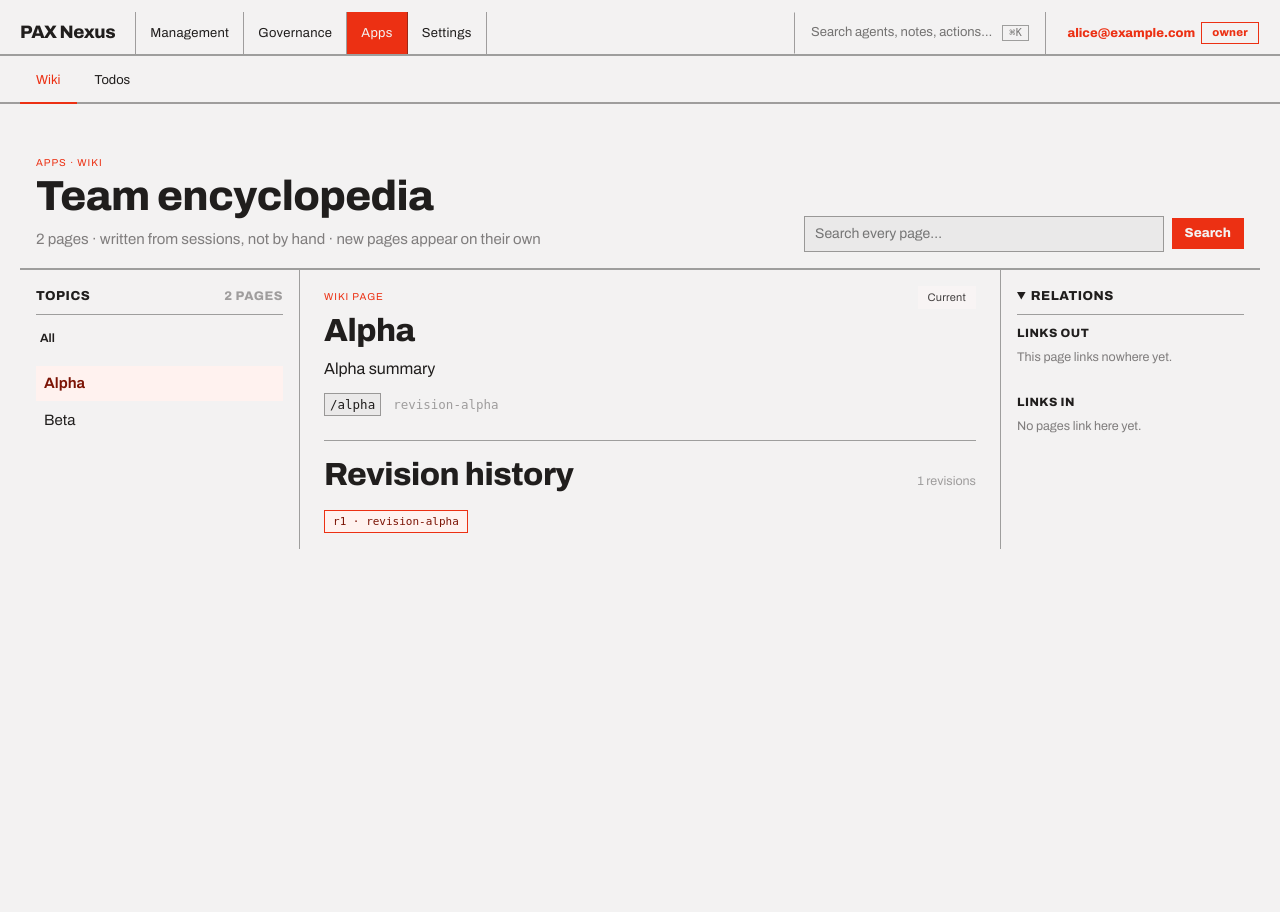
Test: wiki browse route navigation fetch cadence › does not bounce back to the tree once already viewing a page absent from it
This screenshot has width=1280, height=912.
expect the heading "Alpha" is shown: met, box [324,313,415,348]
In the search field named "Search the wiki": point(984, 234) [804,216,1164,252], type "hidden"
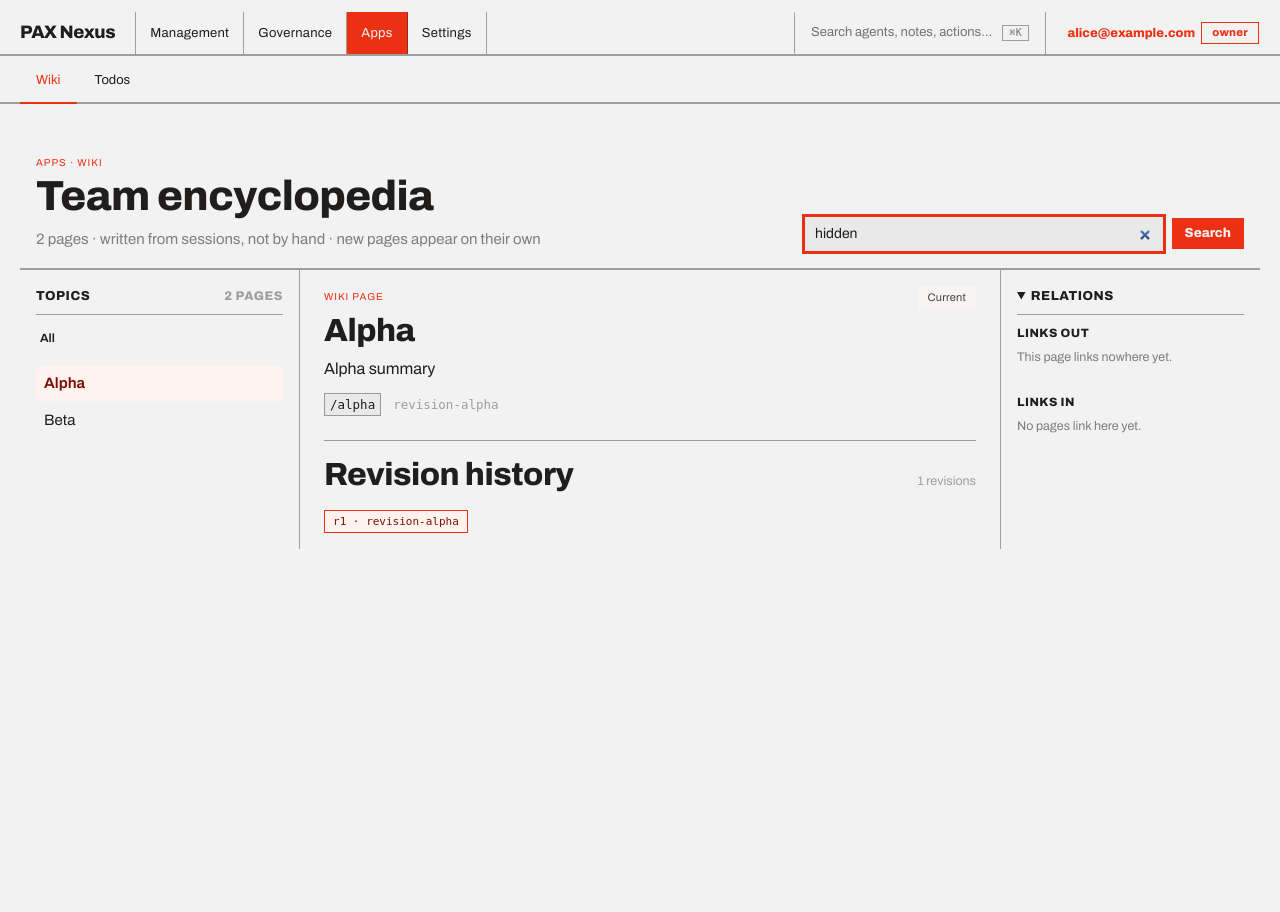
Click the button "Search": point(1208, 234) [1172,218,1244,249]
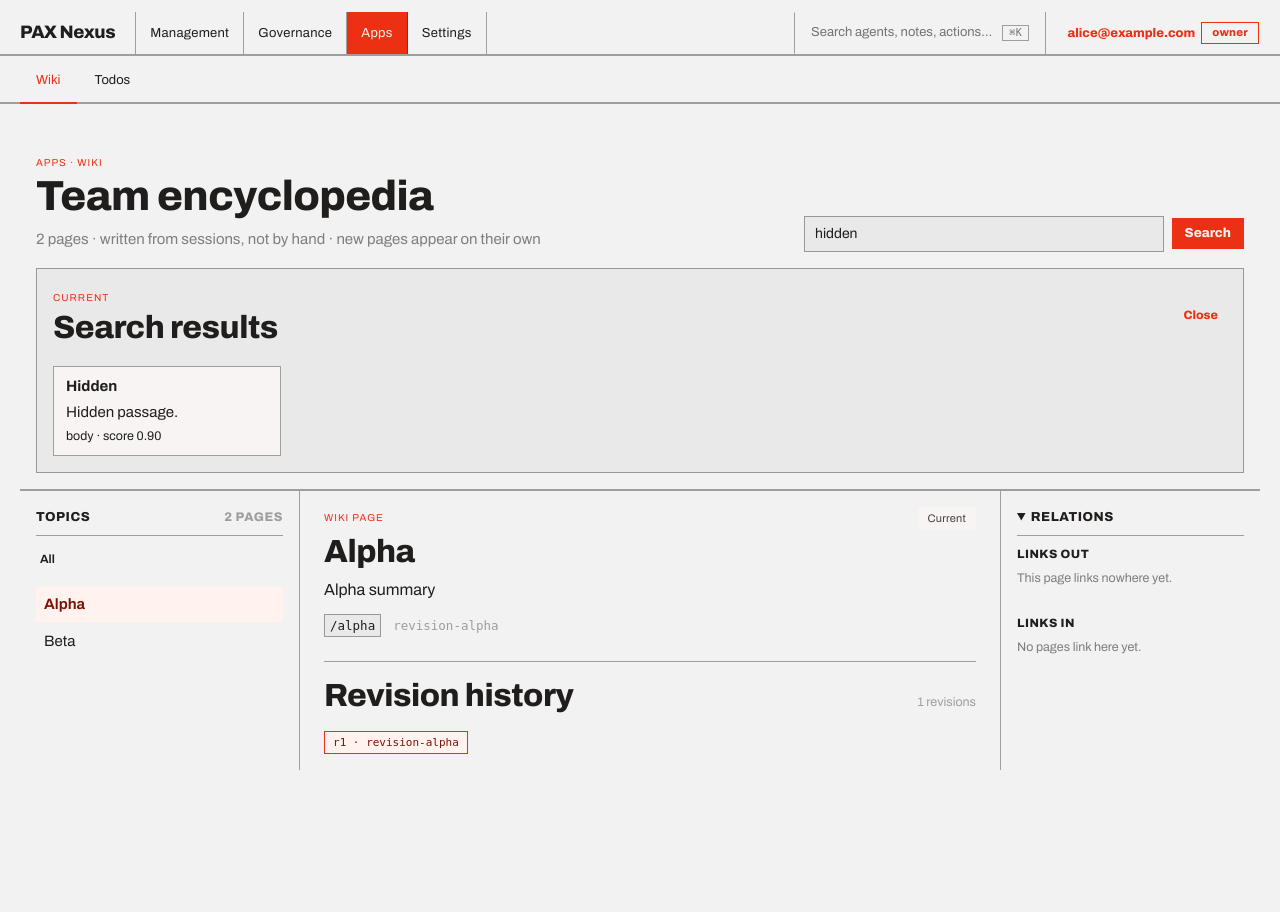
Click the button "Hidden Hidden passage. body · score 0.90": point(167, 411) [53,366,281,456]
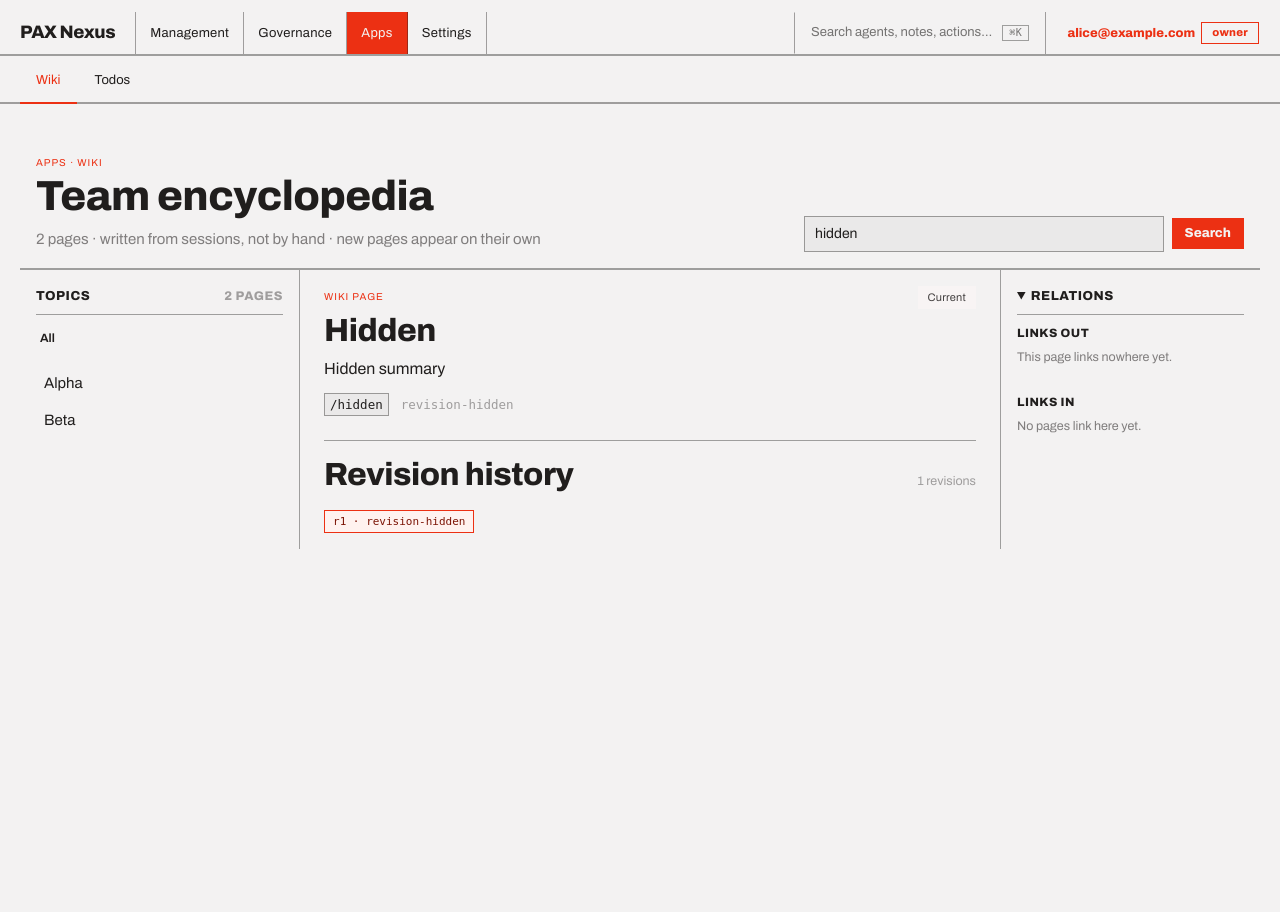
expect the heading "Hidden" is shown: met, box [324,313,436,348]
